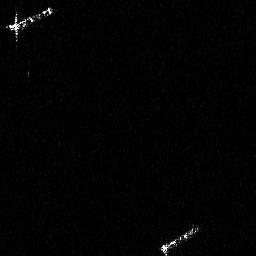ship: (3, 6, 54, 44), (159, 220, 202, 256)
